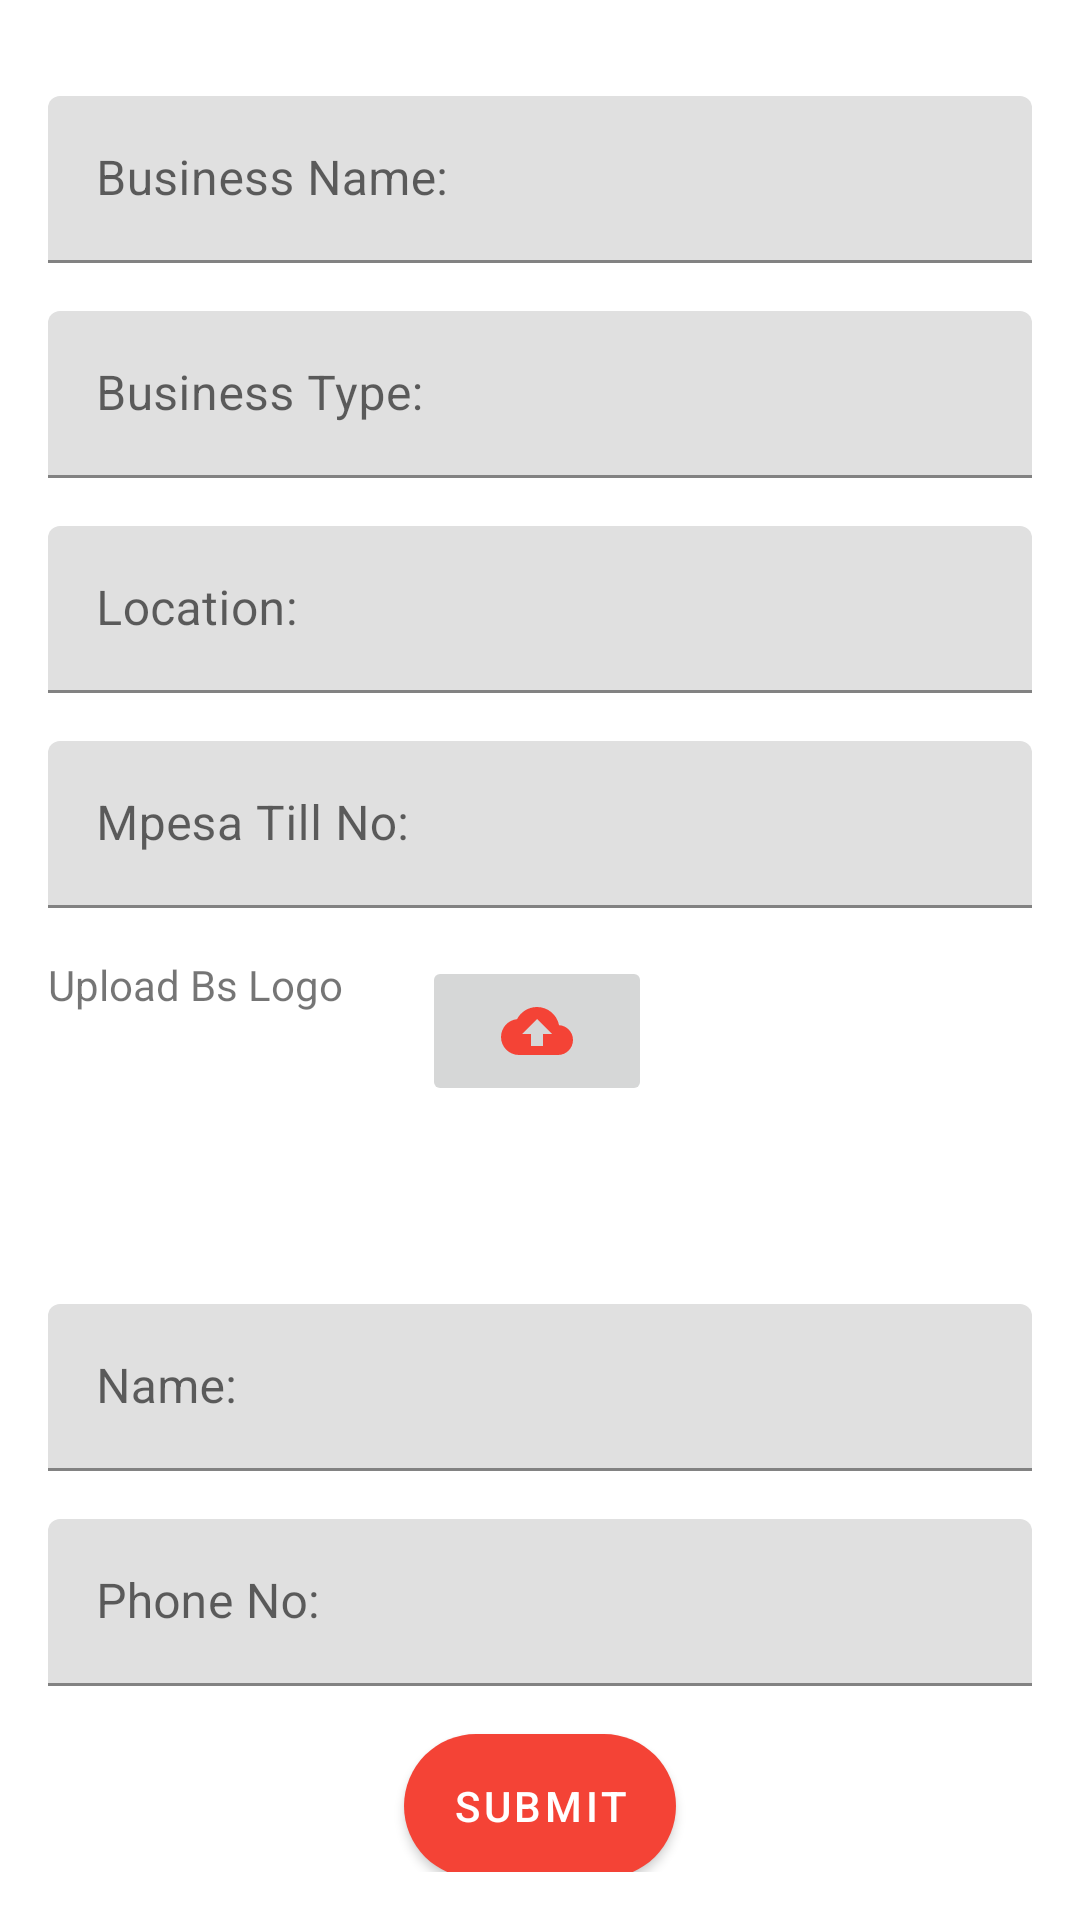

Locate icon controls on the screen. Image size 1080 × 1920, boxes as bbox(x1, y1, x2, y2).
cloud upload: bbox(434, 974, 640, 1088)
